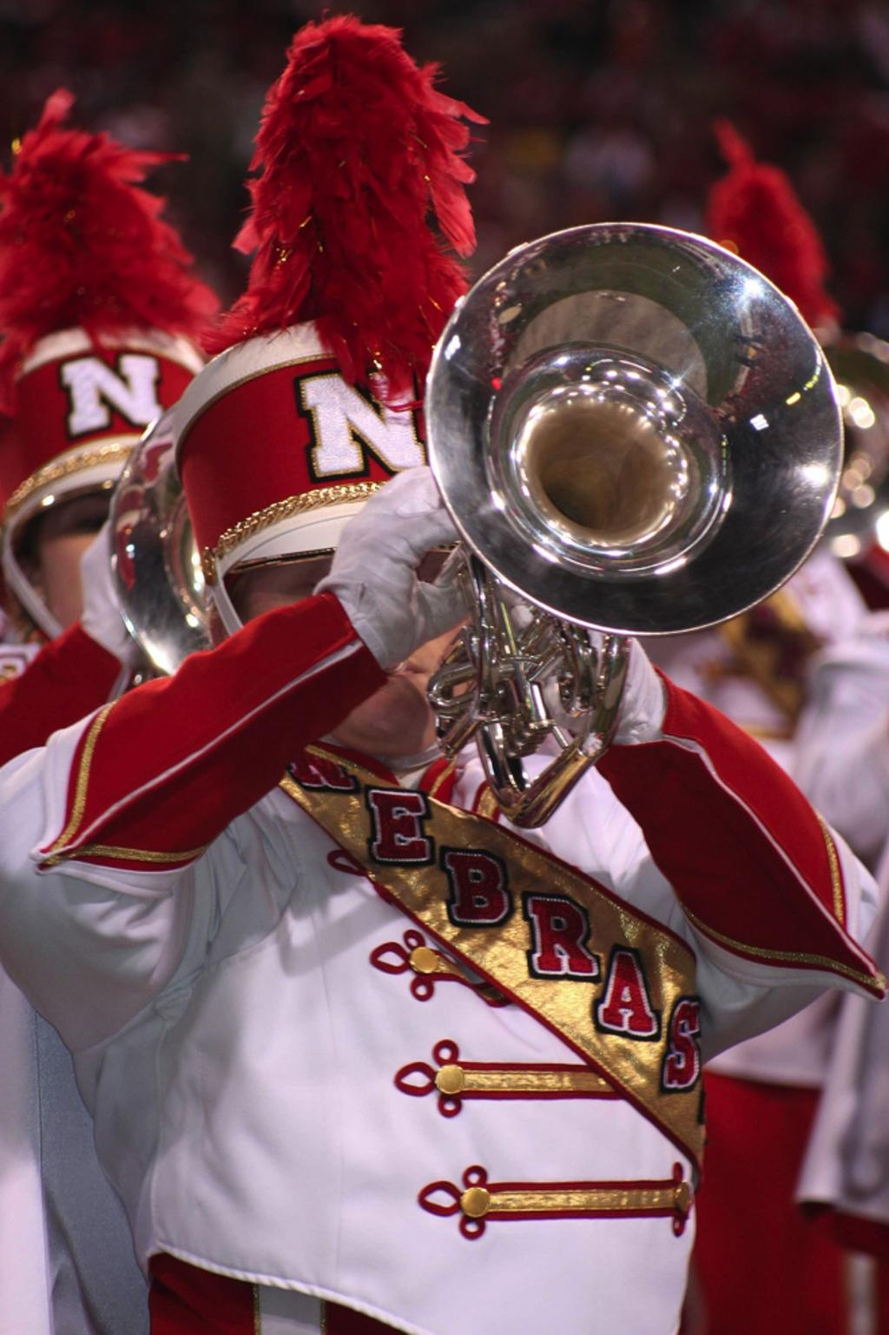human_face: (23, 417, 291, 698), (226, 501, 510, 751)
